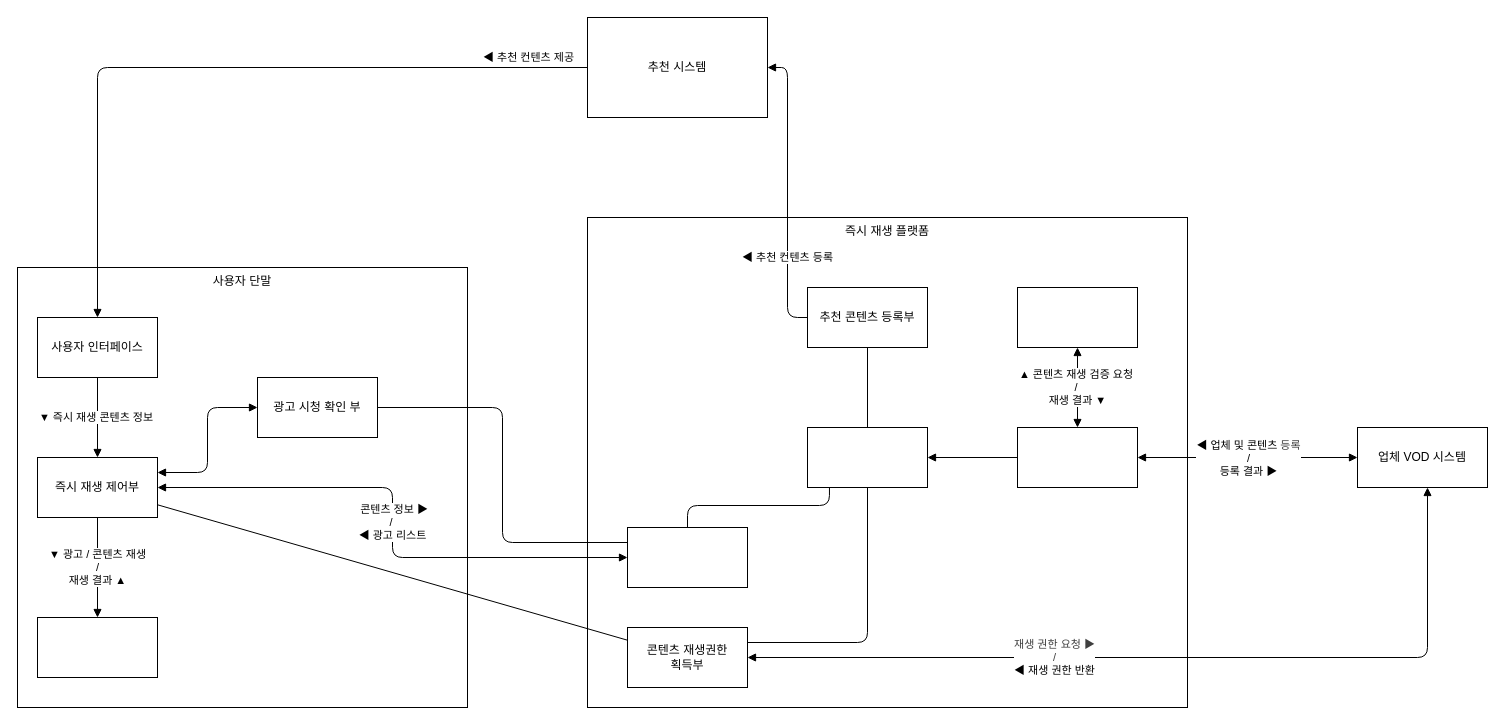
The diagram is 1505 pixels wide and 725 high, and some of its shapes have lost their labels. Each missing label, with the centre of its shape:
"VOD 업체 / 콘텐츠 관리부" belongs at (x=1077, y=457).
"VOD 재생 검증부" belongs at (x=1077, y=317).
"광고 처리부" belongs at (x=687, y=557).
"멀티미디어 재생기" belongs at (x=97, y=647).
"즉시 재생 콘텐츠 저장소" belongs at (x=867, y=457).
